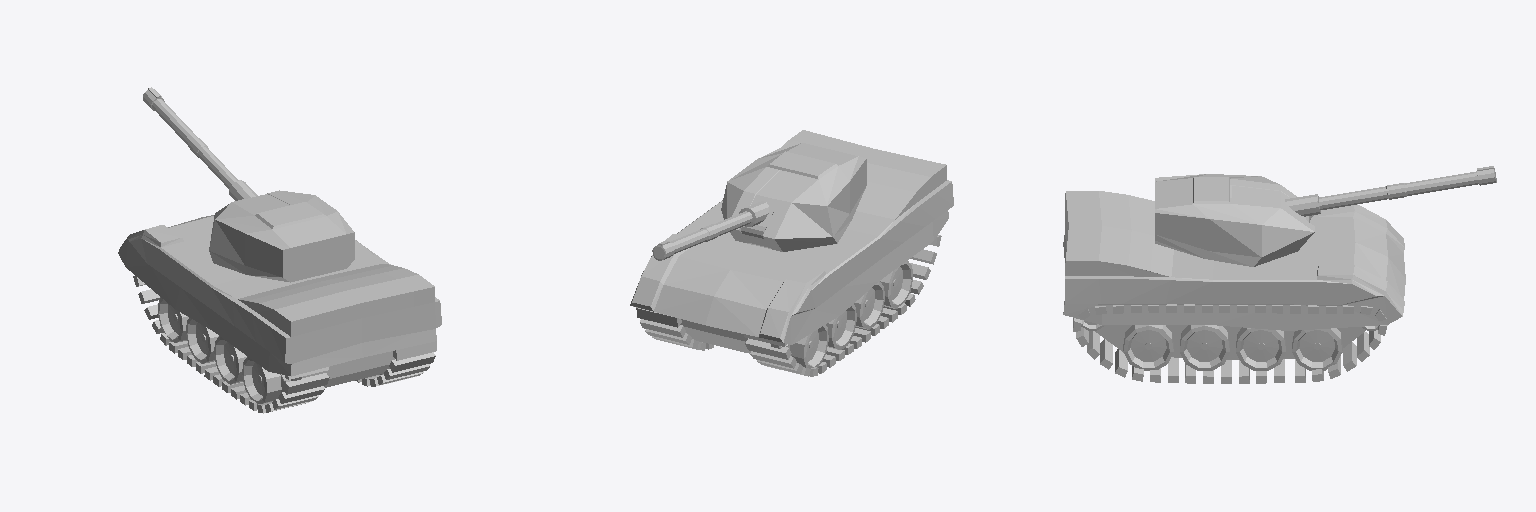
Rendered from tnkt_model.obj.
3 views of the same model, side by side, from view 1: azimuth 30°, elevation 25°; view 2: azimuth 150°, elevation 25°; view 3: azimuth 270°, elevation 25° (orthographic).
Size of the model in its own units: 7.09 by 7.75 by 16.95.